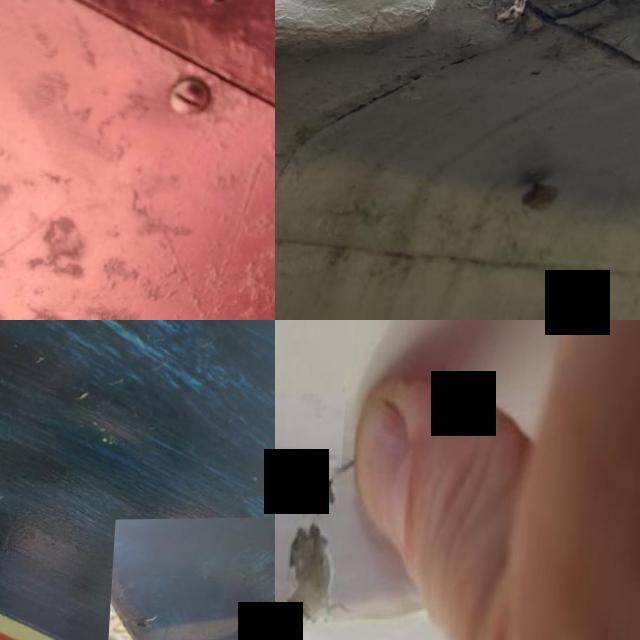Crack: (286, 524, 355, 630), (301, 448, 360, 522), (275, 432, 345, 469)
Dent: (110, 516, 275, 640)
